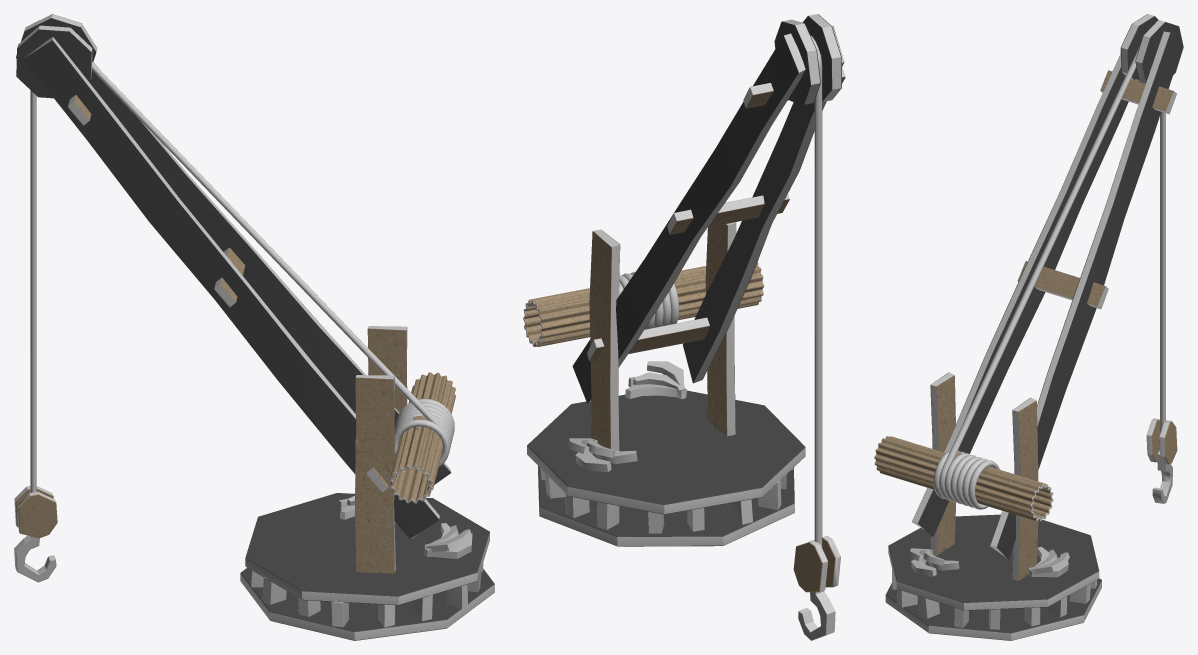
File: SM_Crane.FBX
3 renders of one model, left to right at view 1: azimuth 30°, elevation 25°; view 2: azimuth 150°, elevation 25°; view 3: azimuth 270°, elevation 25°, orthographic. The views are drawn at different scales.
Visible parts, largest first — view 1: SM_Crane; view 2: SM_Crane; view 3: SM_Crane.
Boxes of the visible parts, left/top/right/bottom form: SM_Crane: left=14, top=14, right=494, bottom=640; SM_Crane: left=523, top=14, right=845, bottom=640; SM_Crane: left=874, top=14, right=1183, bottom=640.
Bounding box in the file's own units: 9.38 × 13.75 × 7.91.
